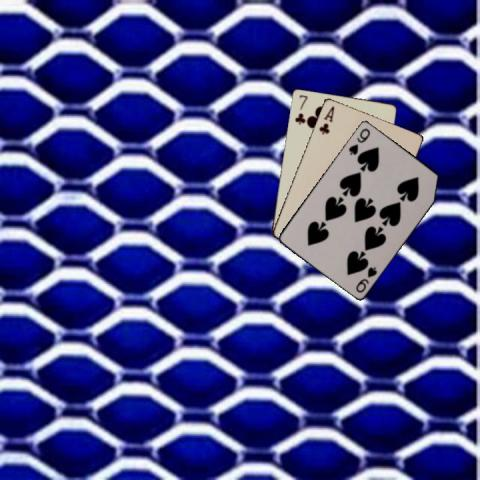7c: (292, 92, 309, 126)
9s: (346, 125, 372, 156), (352, 263, 378, 294)
Ac: (316, 103, 336, 135)
